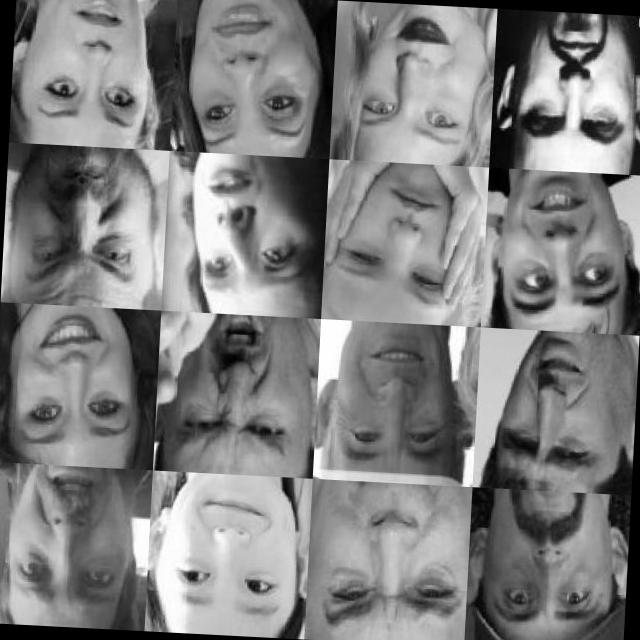angry: (320, 491, 458, 632), (19, 156, 146, 308), (182, 162, 318, 302), (178, 325, 309, 447)
fear: (8, 474, 134, 614)
happy: (157, 474, 306, 626), (506, 180, 632, 323), (333, 331, 465, 465), (355, 10, 483, 140), (19, 315, 142, 446)
neutral: (328, 178, 488, 322), (477, 488, 621, 635), (502, 340, 630, 474), (520, 34, 640, 156)
sad: (180, 0, 327, 147), (28, 0, 163, 142)
